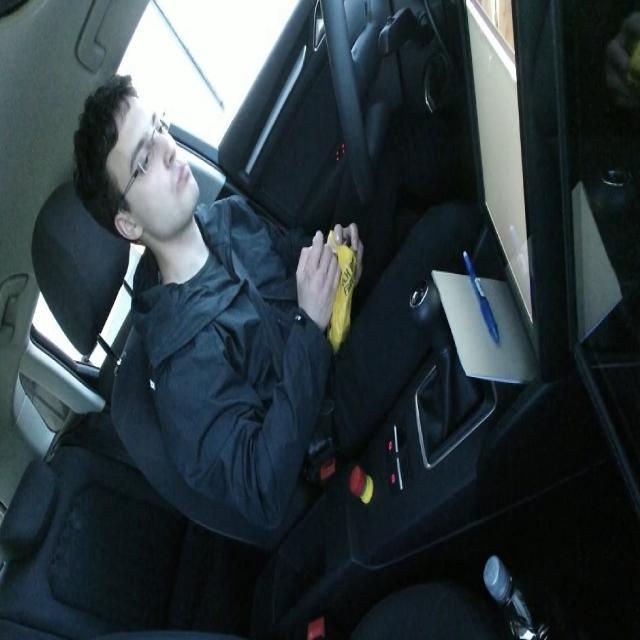pen: (462, 248, 499, 346)
